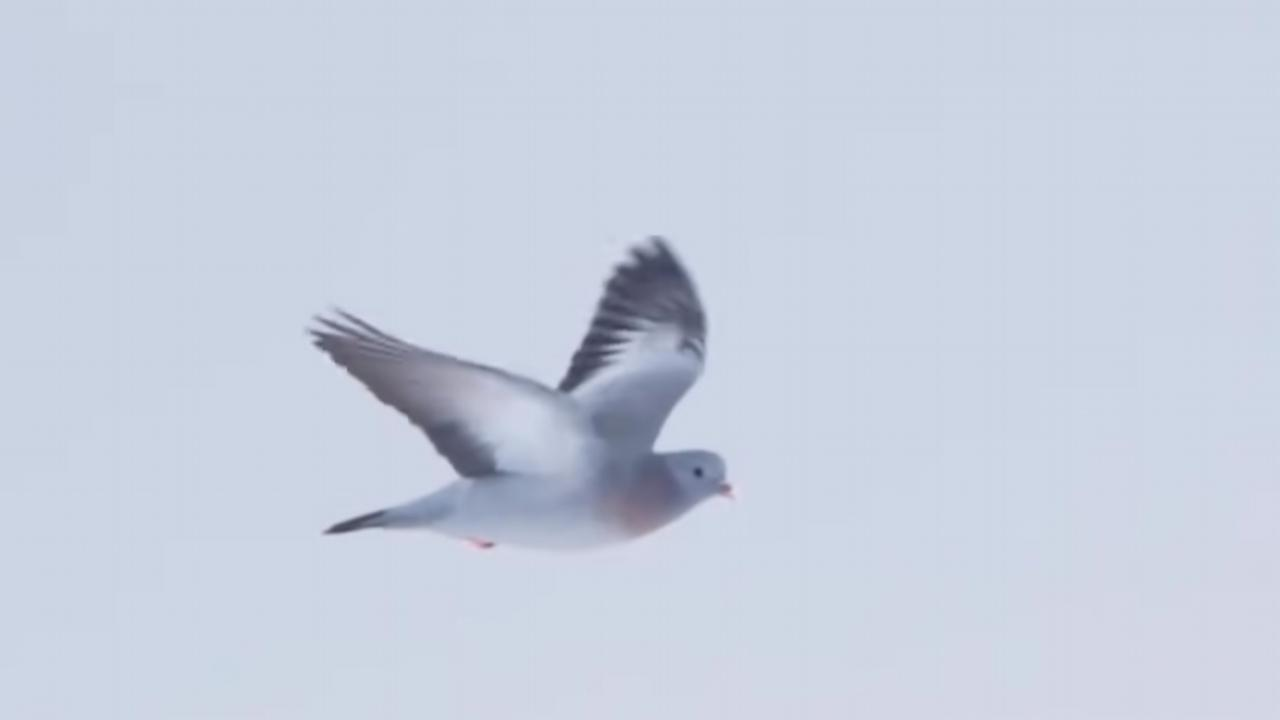Bird: (293, 224, 742, 566)
